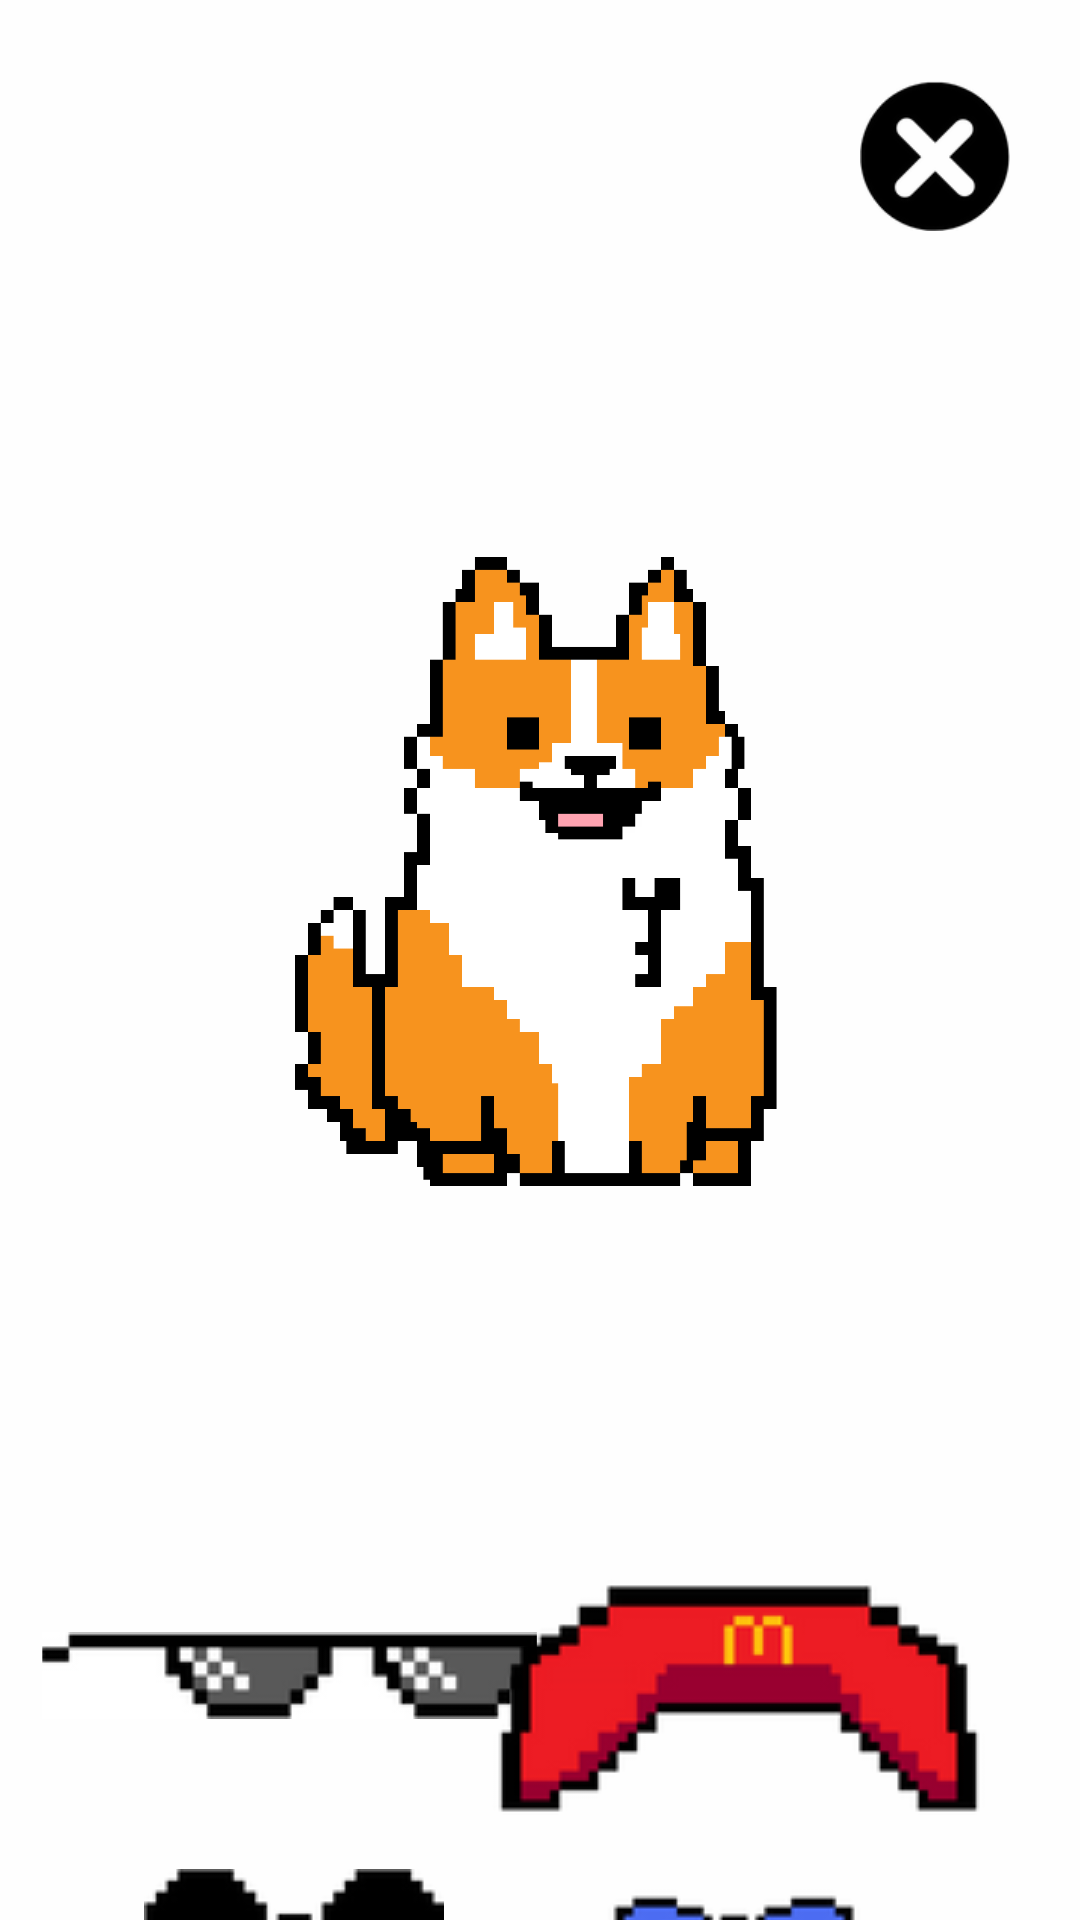

Where icons sit on this 1080×1920 app screen, as (x1, y1, x2, y2):
exitbtn: (860, 82, 1010, 231)
